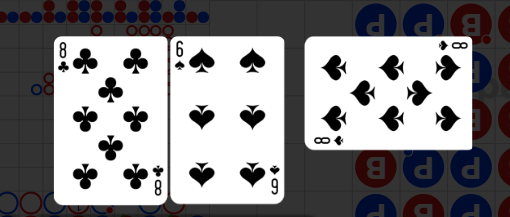6S: (268, 163, 281, 196)
8C: (57, 41, 71, 75)
8S: (436, 40, 469, 53)
